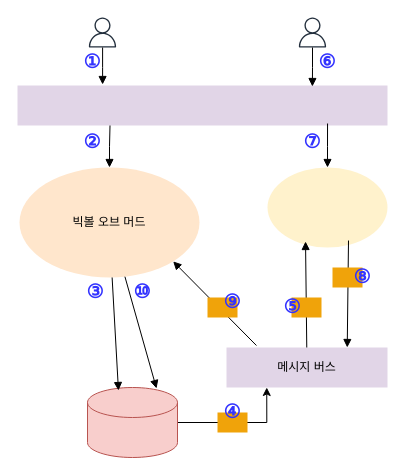
Some shapes in this 404 by 475 pixel diagram are drawn without their labels. Here are the shapes that lost their labels. From the top down, the centre of each, then its label:
the point at 202,105: API Gateway
the point at 327,207: 신규 MSA
